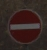No entry: (5, 6, 42, 45)
